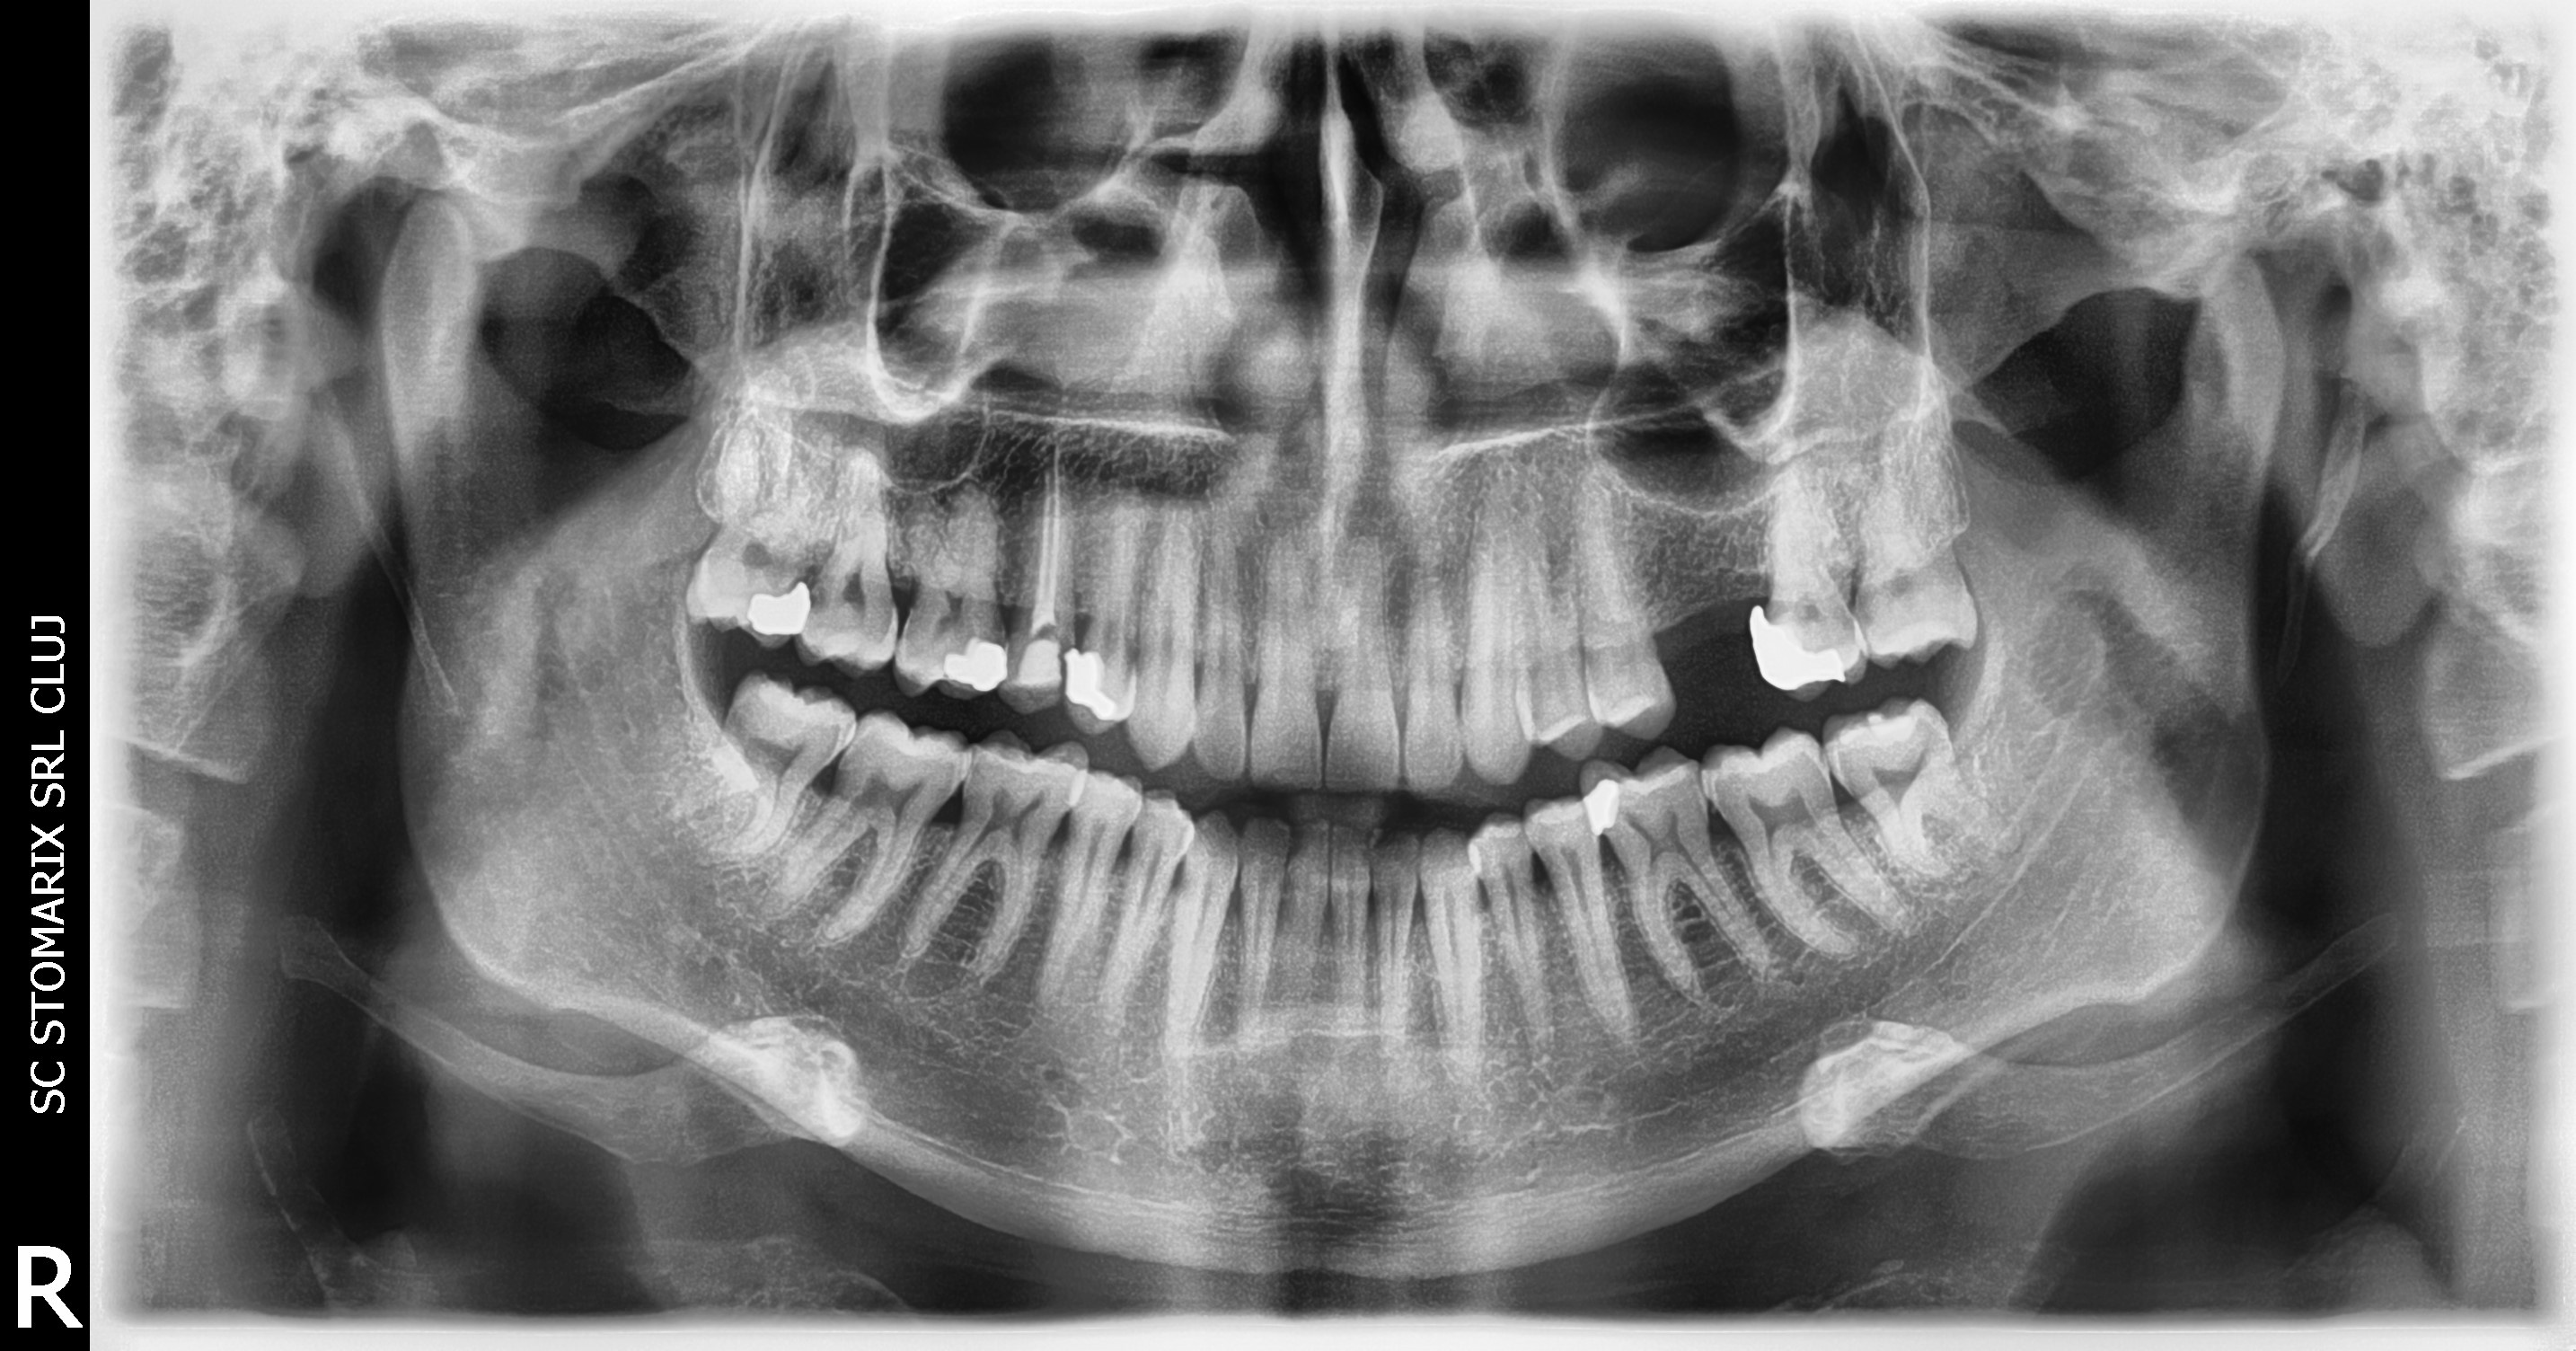CAR: (1738, 579, 1820, 647), (773, 545, 819, 610)
END: (998, 433, 1094, 644)
OBT: (1738, 598, 1862, 710), (1055, 627, 1143, 739), (734, 566, 823, 654), (917, 632, 1015, 700), (1005, 620, 1070, 719), (1571, 763, 1637, 850)
